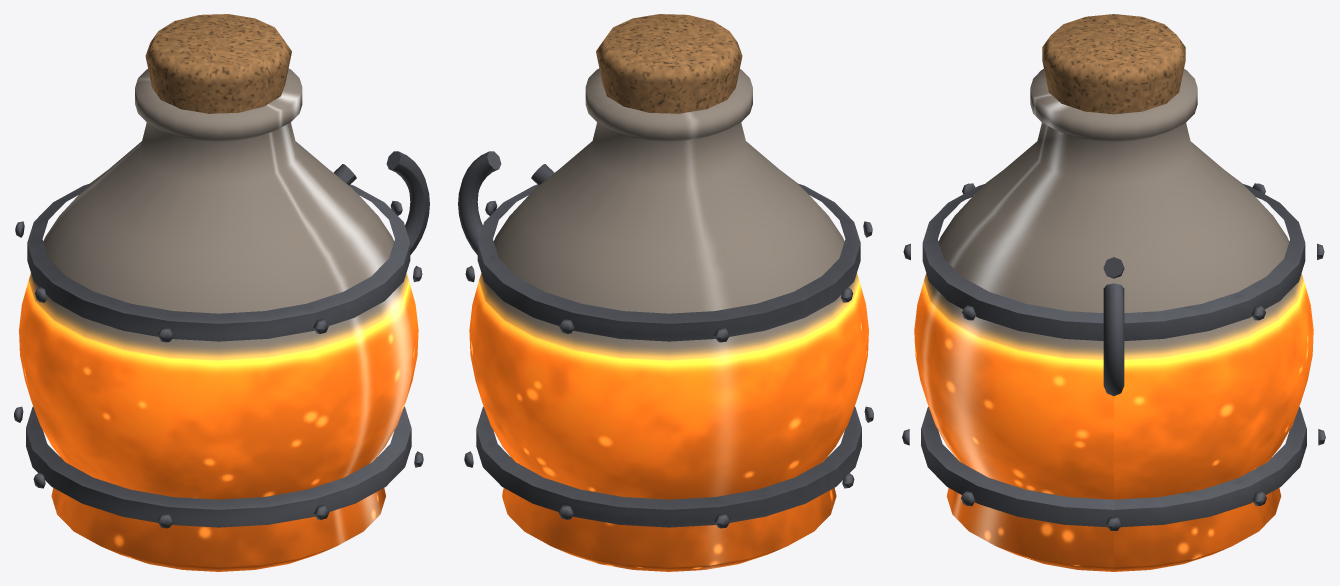
File: GiantsStrengthBrew.glb
3 views of the same model, side by side, from view 1: azimuth 30°, elevation 25°; view 2: azimuth 150°, elevation 25°; view 3: azimuth 270°, elevation 25° (orthographic).
Parts seen in each view (by area): view 1: GiantsStrengthBrew; view 2: GiantsStrengthBrew; view 3: GiantsStrengthBrew.
Boxes of the visible parts, box(x1,y1,x2,y2) form: GiantsStrengthBrew: box(14, 14, 429, 571); GiantsStrengthBrew: box(458, 14, 873, 571); GiantsStrengthBrew: box(902, 14, 1325, 571).
Size of the model in its own units: 0.978 by 1.12 by 0.912.
Materials: 1 (1 with a texture image).
